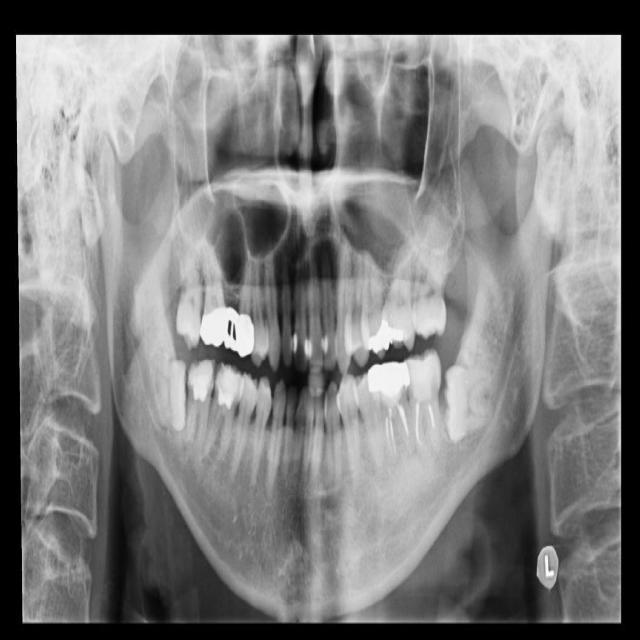Crown: (200, 307, 254, 358), (407, 351, 442, 392), (369, 363, 410, 393), (212, 366, 243, 405), (184, 357, 215, 389)
Filling: (383, 317, 412, 347), (365, 319, 388, 355)
Root Canal Treatment: (425, 405, 435, 435), (400, 404, 408, 438), (386, 419, 392, 462), (416, 405, 421, 445), (391, 409, 397, 440)
impacted tooth: (443, 365, 500, 440), (145, 353, 187, 431)
